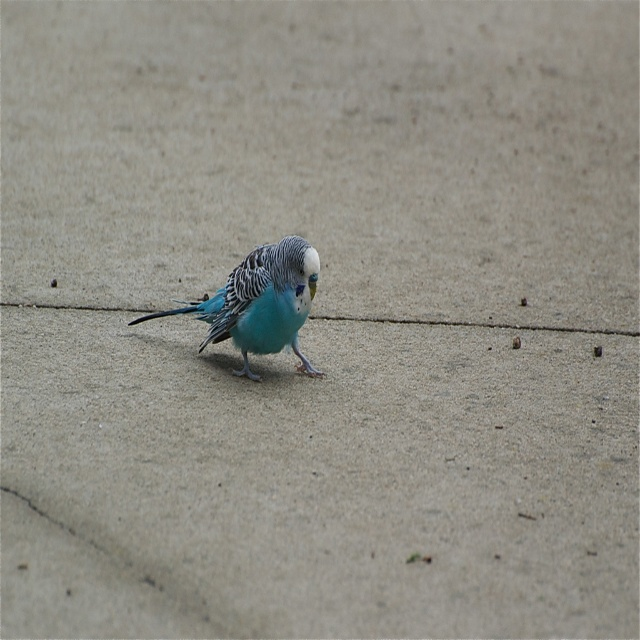Parrot: (128, 235, 325, 383)
